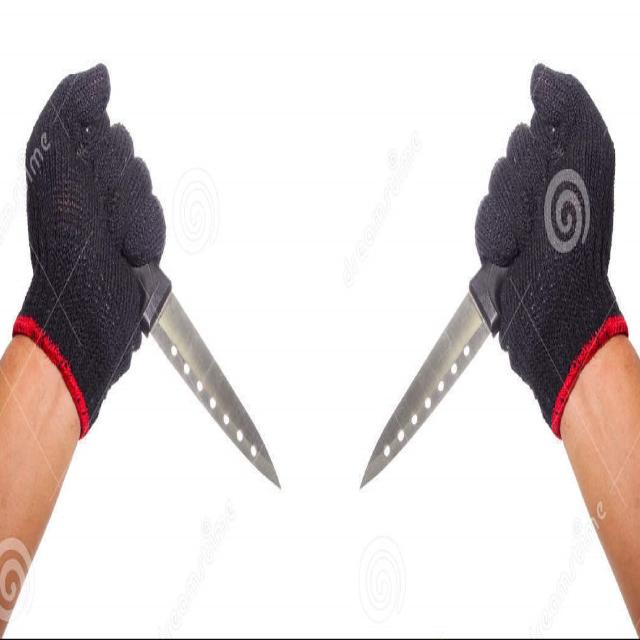knife: (358, 258, 508, 494), (141, 268, 286, 493)
